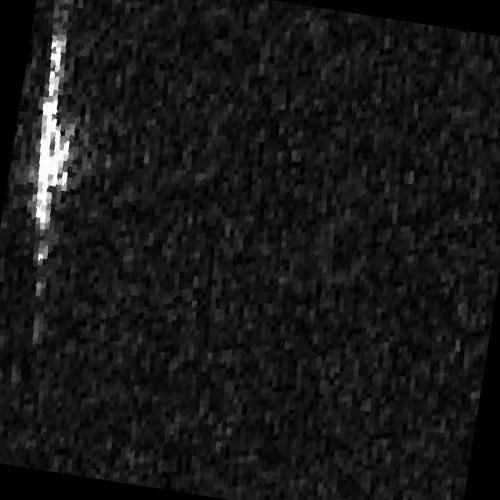ship: (33, 0, 71, 305)
